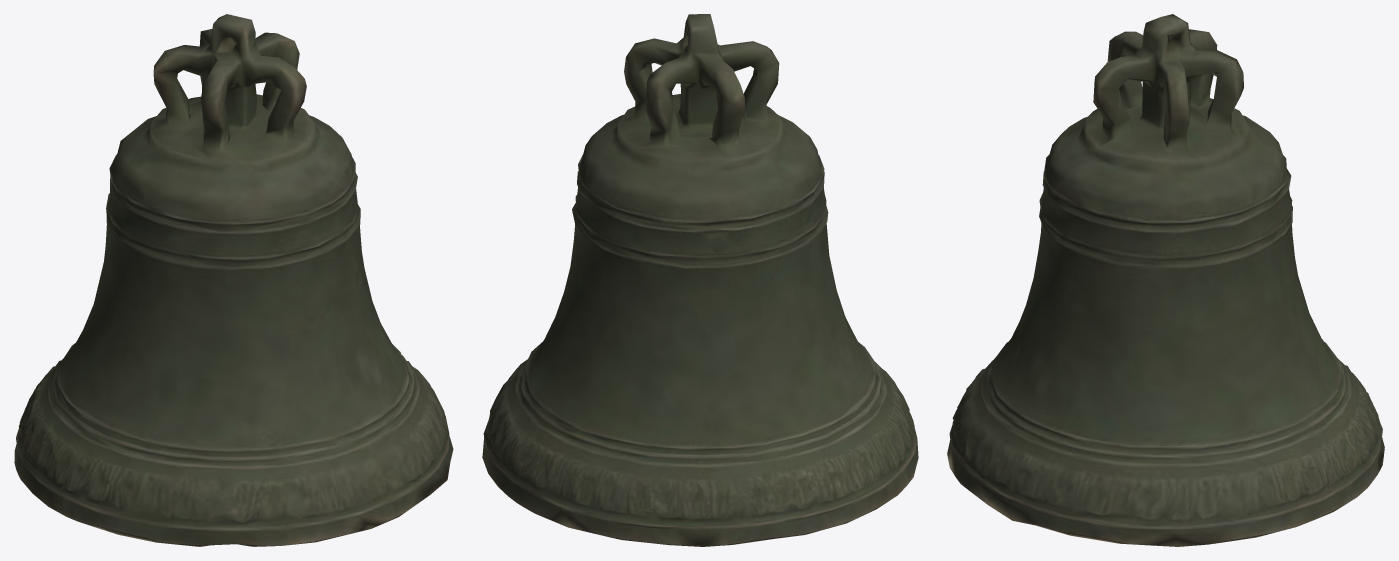
File: church_bell.glb
The picture shows the model from 3 angles, left to right: view 1: azimuth 30°, elevation 25°; view 2: azimuth 150°, elevation 25°; view 3: azimuth 270°, elevation 25°; orthographic projection.
Visible parts, largest first — view 1: tripo_node_b48f4a71-b149-46d8-9069-ea0b01004899; view 2: tripo_node_b48f4a71-b149-46d8-9069-ea0b01004899; view 3: tripo_node_b48f4a71-b149-46d8-9069-ea0b01004899.
Boxes of the visible parts, x1,y1,x2,y2 form: tripo_node_b48f4a71-b149-46d8-9069-ea0b01004899: (14,14,453,546); tripo_node_b48f4a71-b149-46d8-9069-ea0b01004899: (482,14,918,546); tripo_node_b48f4a71-b149-46d8-9069-ea0b01004899: (947,14,1384,546).
Bounding box in the file's own units: 0.7964 × 0.9818 × 0.7937.
1 material, 1 textured.
